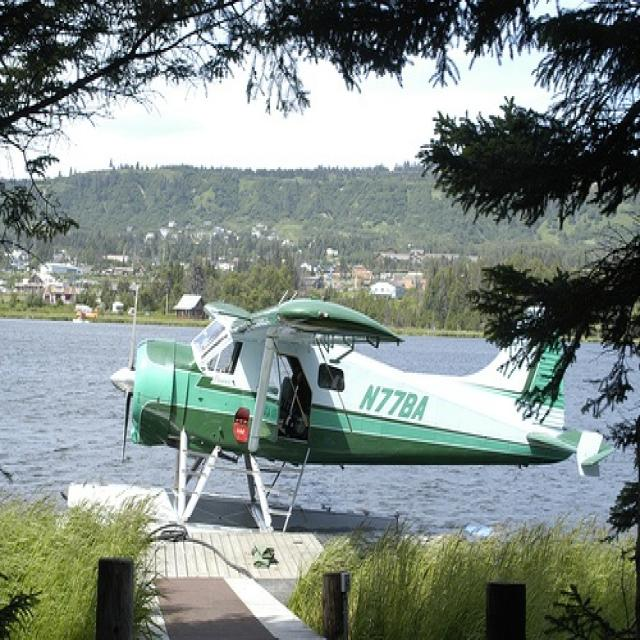aeroplane: (110, 278, 617, 541)
